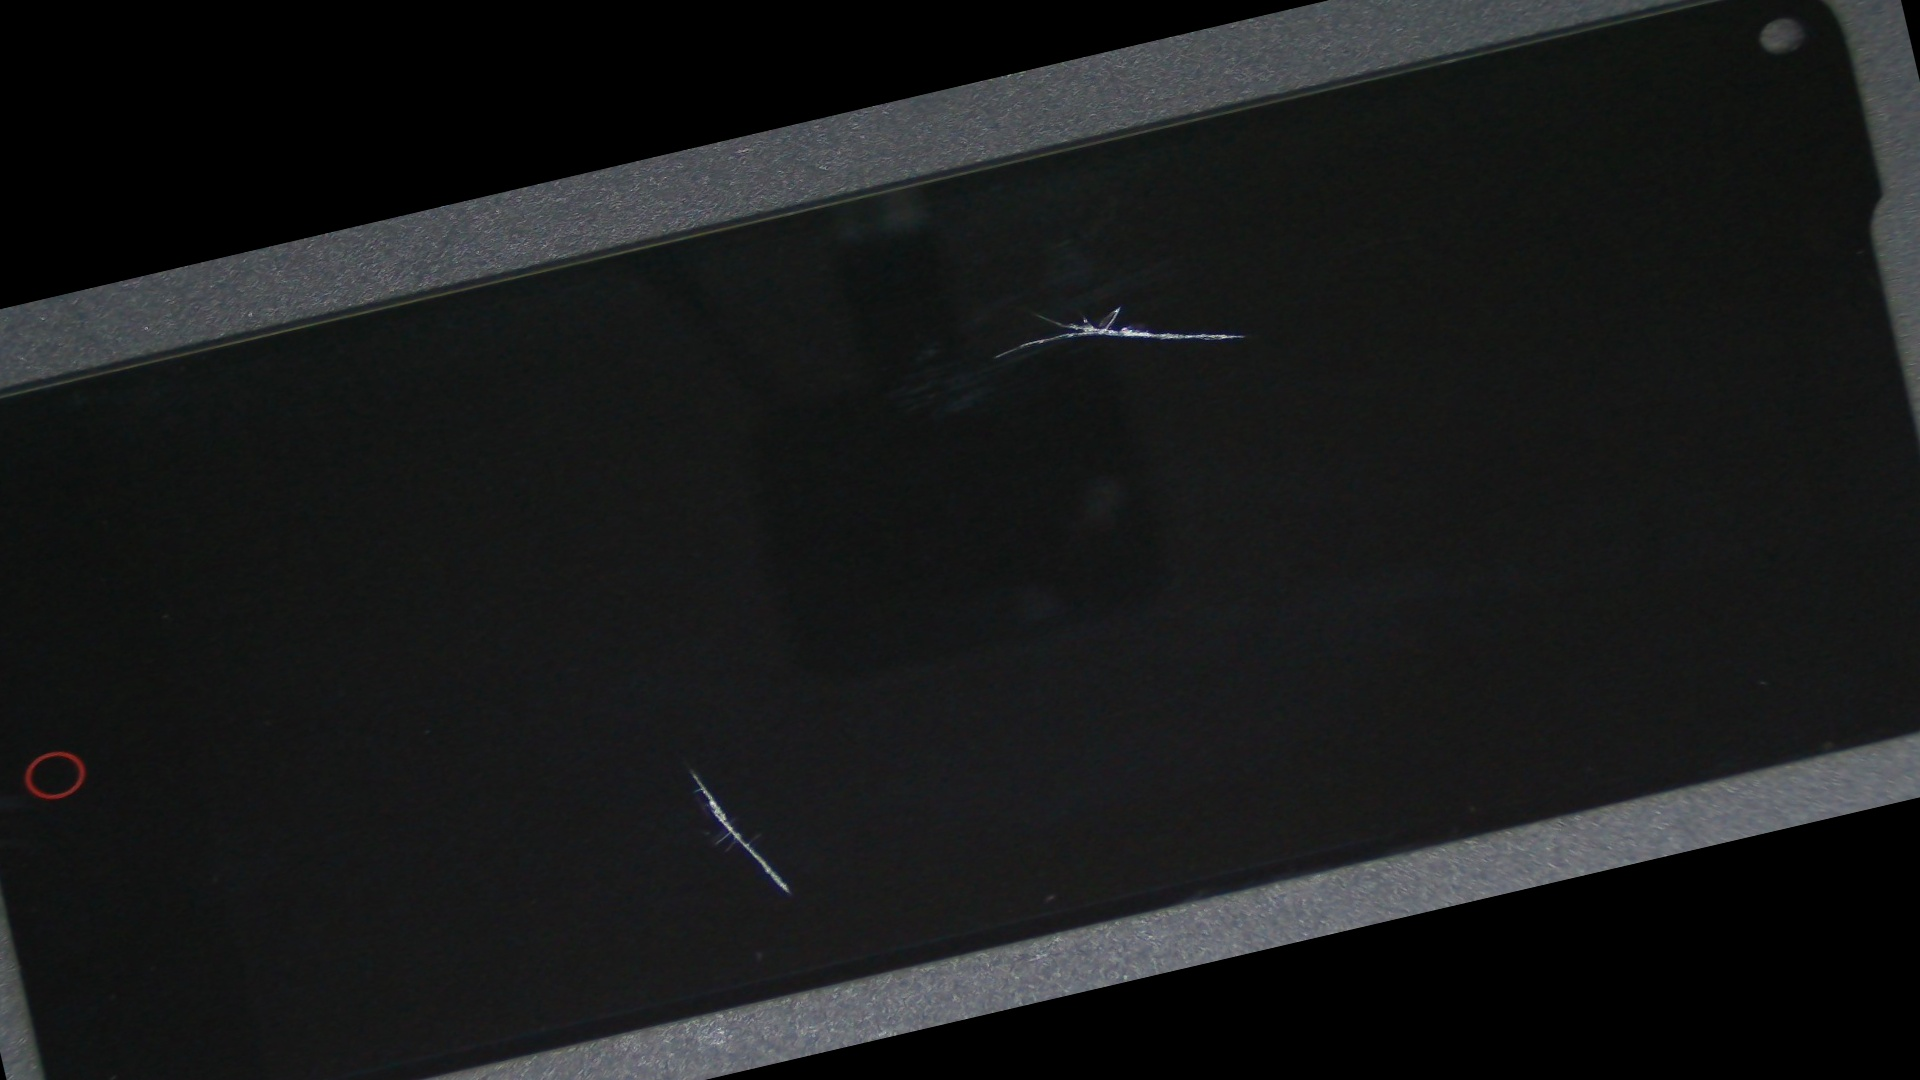oil: (435, 63, 1635, 563), (265, 390, 1120, 1080)
